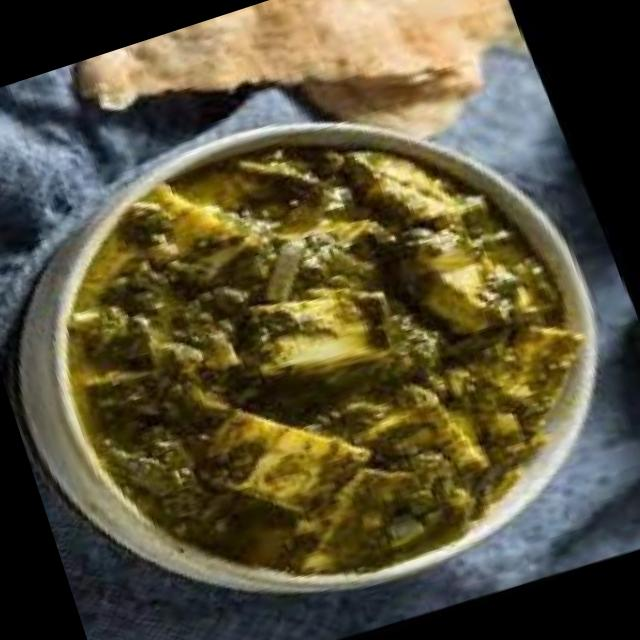palak_paneer: (7, 67, 640, 640)
